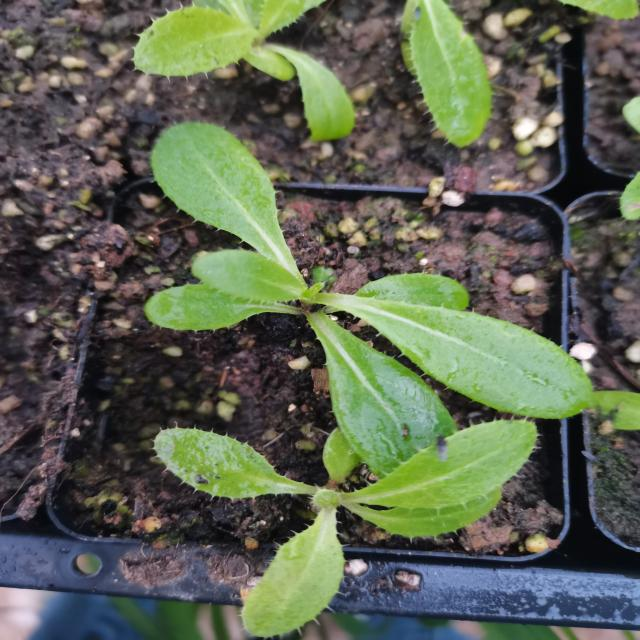field_thistle: (149, 122, 551, 448), (131, 412, 503, 618)
